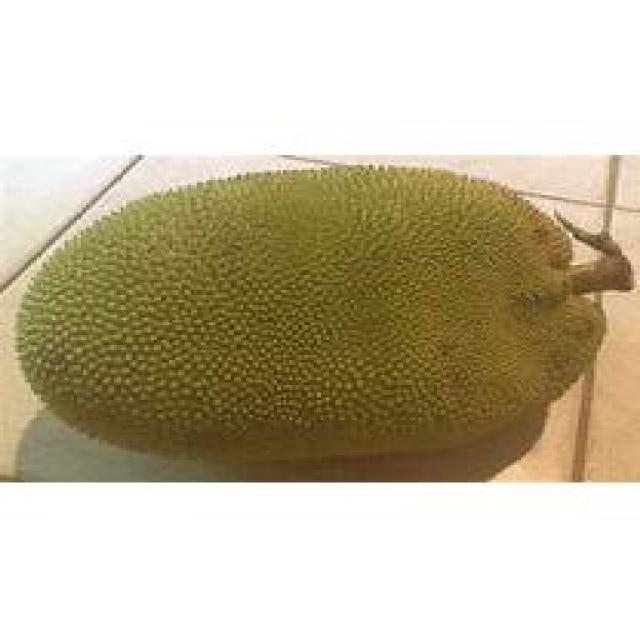Fruit: (234, 150, 615, 475), (0, 152, 378, 467)
